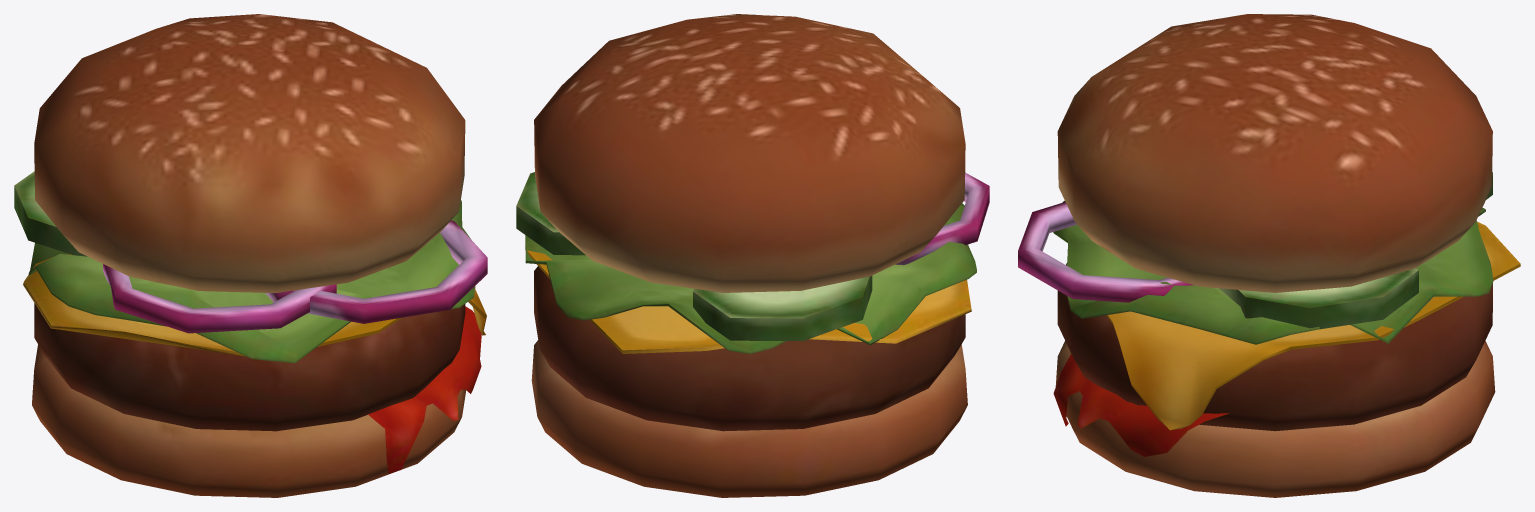
The model's file is burger.glb.
The picture shows the model from 3 angles, left to right: view 1: azimuth 30°, elevation 25°; view 2: azimuth 150°, elevation 25°; view 3: azimuth 270°, elevation 25°; orthographic projection.
Visible parts, largest first — view 1: burgerbreadtop.001, burgermeat.001, burgerall, salad.001, onionslice.002, onionslice.001, cheeseslice.001, ketchuponbread.001, cumcumberslice.001; view 2: burgerbreadtop.001, burgermeat.001, burgerall, salad.001, cumcumberslice.001, cheeseslice.001, onionslice.001, cumcumberslice.002; view 3: burgerbreadtop.001, burgermeat.001, burgerall, cheeseslice.001, salad.001, cumcumberslice.002, onionslice.002, ketchuponbread.001.
Part boxes in pixels (box(x1,y1,x2,y2)): burgerbreadtop.001: box(34, 14, 465, 292); burgermeat.001: box(34, 303, 465, 431); burgerall: box(32, 344, 466, 497); salad.001: box(28, 200, 474, 362); onionslice.002: box(265, 220, 487, 323); onionslice.001: box(103, 264, 336, 333); cheeseslice.001: box(23, 254, 486, 356); ketchuponbread.001: box(368, 306, 481, 473); cumcumberslice.001: box(14, 171, 87, 256); burgerbreadtop.001: box(534, 14, 965, 292); burgermeat.001: box(534, 266, 965, 431); burgerall: box(531, 340, 967, 497); salad.001: box(525, 203, 976, 353); cumcumberslice.001: box(693, 276, 872, 341); cheeseslice.001: box(527, 250, 971, 353); onionslice.001: box(895, 172, 989, 265); cumcumberslice.002: box(516, 172, 585, 255); burgerbreadtop.001: box(1057, 14, 1492, 292); burgermeat.001: box(1057, 262, 1492, 431); burgerall: box(1055, 341, 1495, 497); cheeseslice.001: box(1106, 221, 1520, 430); salad.001: box(1053, 200, 1493, 344); cumcumberslice.002: box(1219, 268, 1418, 329); onionslice.002: box(1018, 202, 1193, 302); ketchuponbread.001: box(1053, 354, 1229, 456).
Size of the model in its own units: 0.3182 by 0.2562 by 0.3296.
3 materials, 3 textured.
